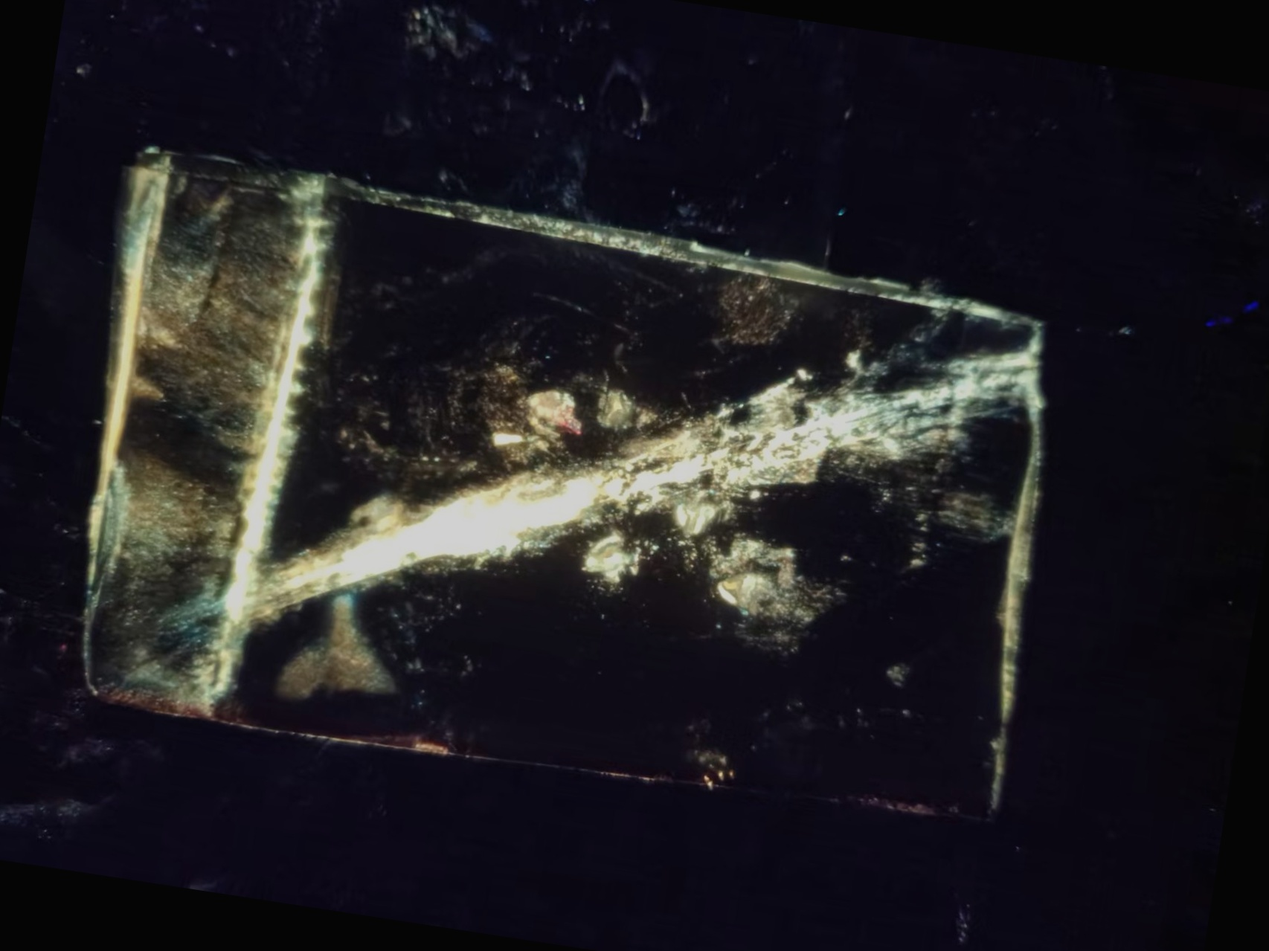Crater: (468, 350, 630, 469), (699, 527, 822, 632), (556, 510, 686, 608)
Fissure: (177, 196, 1089, 763), (162, 145, 366, 729)
